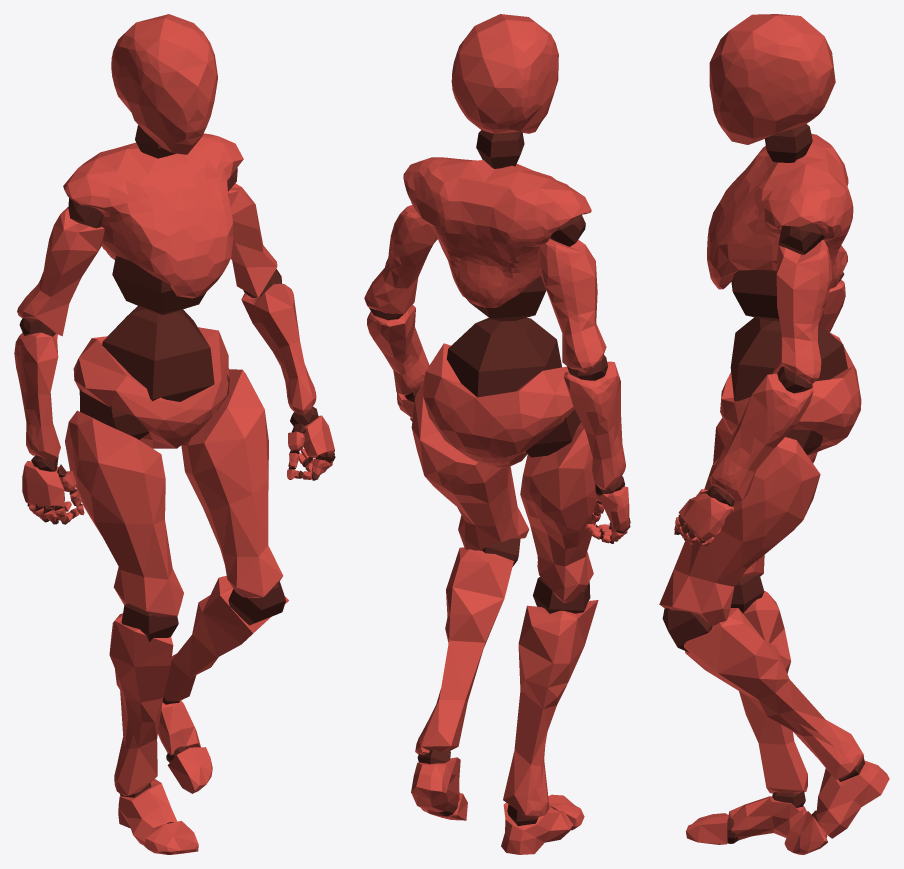
File: pessoa.obj
3 views of the same model, side by side, from view 1: azimuth 30°, elevation 25°; view 2: azimuth 150°, elevation 25°; view 3: azimuth 270°, elevation 25° (orthographic). The views are drawn at different scales.
Parts seen in each view (by area): view 1: Beta_Surface, Beta_Joints; view 2: Beta_Surface, Beta_Joints; view 3: Beta_Surface, Beta_Joints.
Part boxes in pixels (<box>): Beta_Surface: <box>14,14,334,854</box>; Beta_Joints: <box>19,125,335,823</box>; Beta_Surface: <box>364,14,629,854</box>; Beta_Joints: <box>369,130,630,826</box>; Beta_Surface: <box>659,14,889,854</box>; Beta_Joints: <box>662,124,864,843</box>.
Size of the model in its own units: 0.6148 by 1.78 by 0.4449.
